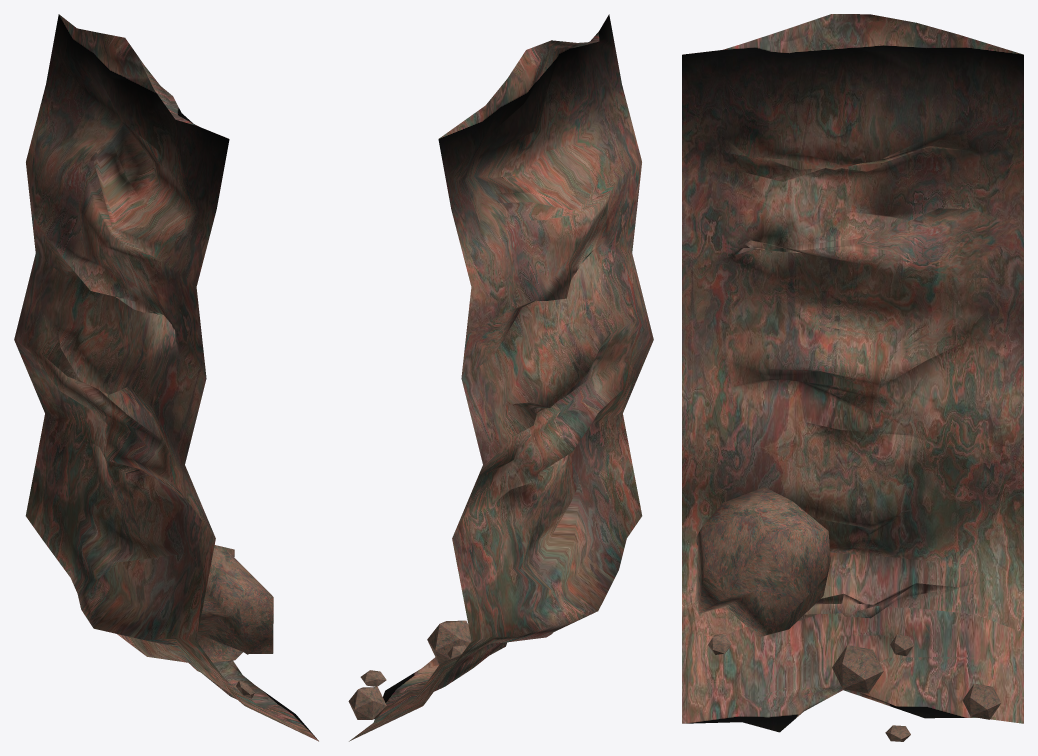
File: cave_walls_straight2.glb
3 renders of one model, left to right at view 1: azimuth 30°, elevation 25°; view 2: azimuth 150°, elevation 25°; view 3: azimuth 270°, elevation 25°, orthographic.
Visible parts, largest first — view 1: cave_straight2-col; view 2: cave_straight2-col; view 3: cave_straight2-col.
Part boxes in pixels (x1,y1,x2,y2): cave_straight2-col: [14, 14, 318, 741]; cave_straight2-col: [348, 14, 653, 741]; cave_straight2-col: [682, 14, 1023, 741].
Size of the model in its own units: 1.36 by 4.28 by 2.
Materials: 2 (2 with a texture image).
